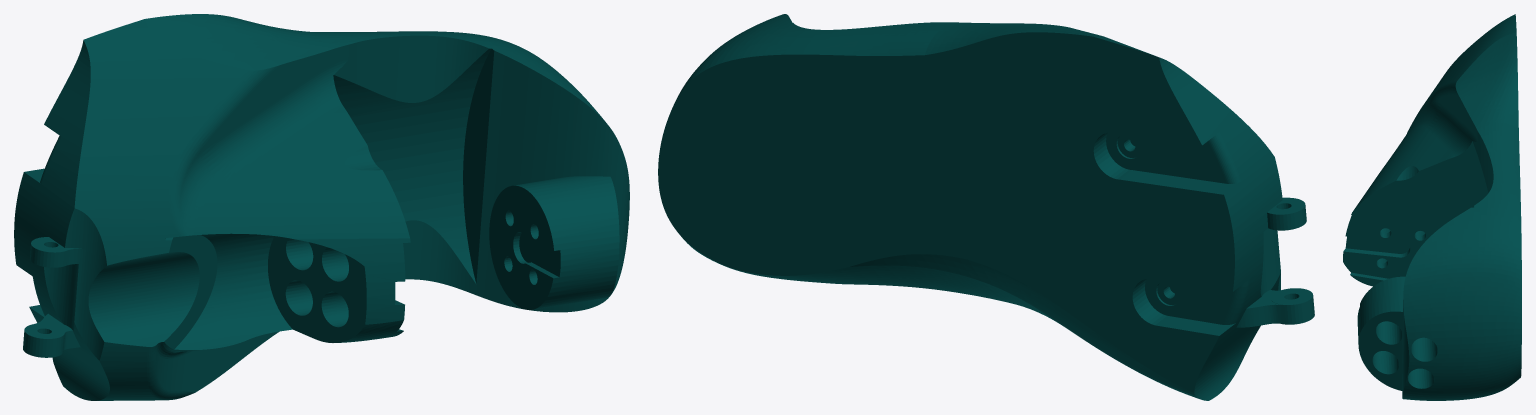
The model's file is leg_right_ankle_roll_visuals.obj.
3 views of the same model, side by side, from view 1: azimuth 30°, elevation 25°; view 2: azimuth 150°, elevation 25°; view 3: azimuth 270°, elevation 25° (orthographic). The views are drawn at different scales.
Size of the model in its own units: 0.1383 by 0.0769 by 0.0508.
